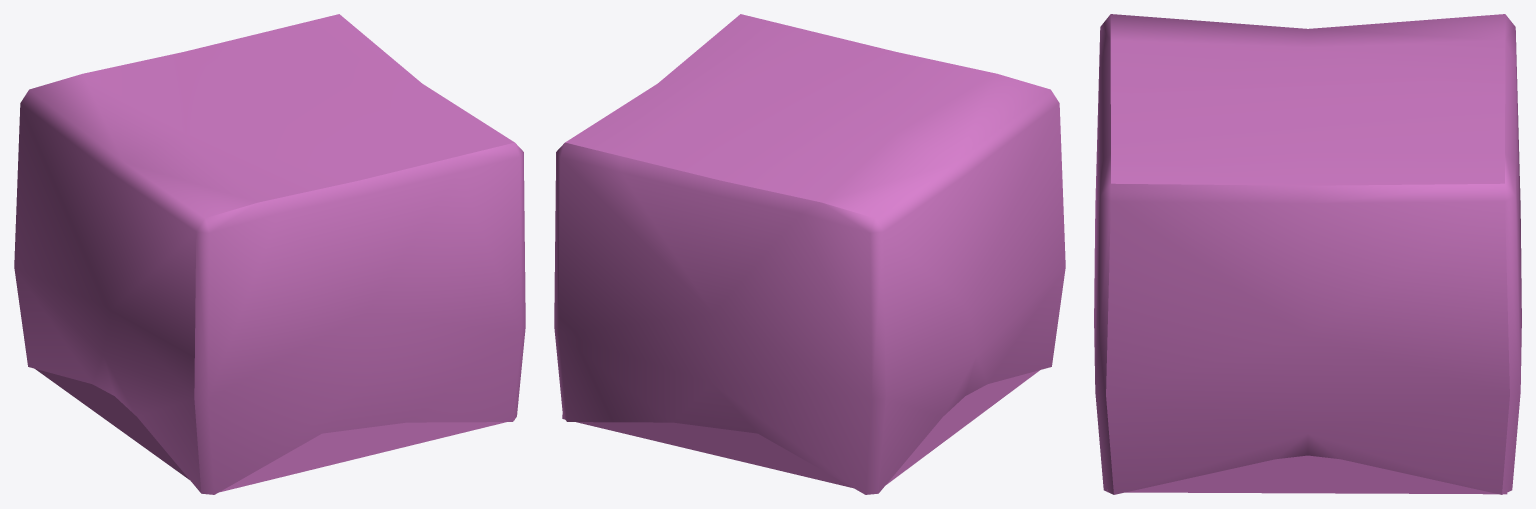
File: Crate_Large.fbx
The picture shows the model from 3 angles, left to right: view 1: azimuth 30°, elevation 25°; view 2: azimuth 150°, elevation 25°; view 3: azimuth 270°, elevation 25°; orthographic projection. The views are drawn at different scales.
Visible parts, largest first — view 1: Crate_Large; view 2: Crate_Large; view 3: Crate_Large.
Boxes of the visible parts, left/top/right/bottom form: Crate_Large: left=14, top=14, right=525, bottom=494; Crate_Large: left=554, top=14, right=1065, bottom=494; Crate_Large: left=1094, top=14, right=1521, bottom=494.
Bounding box in the file's own units: 139 × 109 × 134.
